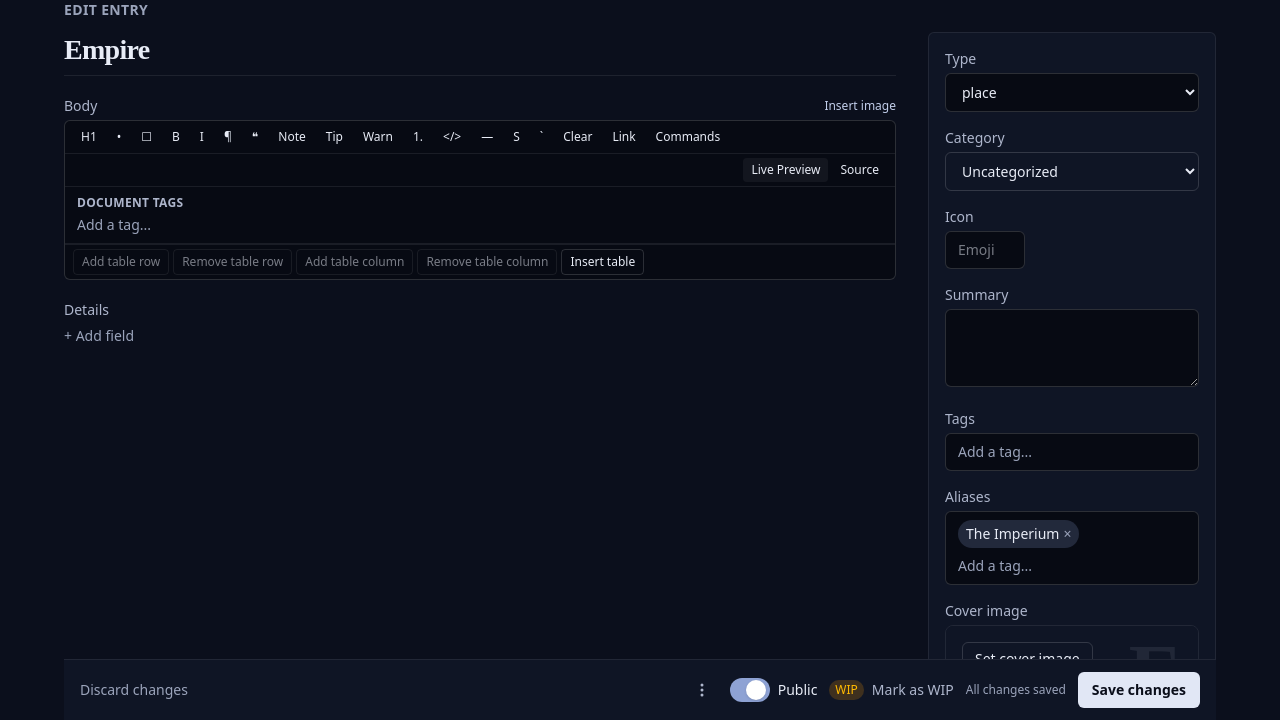
EntryEditor rename-propagation two-phase save › D-09: clicking Cancel in the ConfirmDialog makes no PATCH commit
Check: the button "Save changes" is shown, box [1078,672,1200,708]
Replace the text in the field named "title" with "Imperium" at (480, 54), box [64,32,896,76]
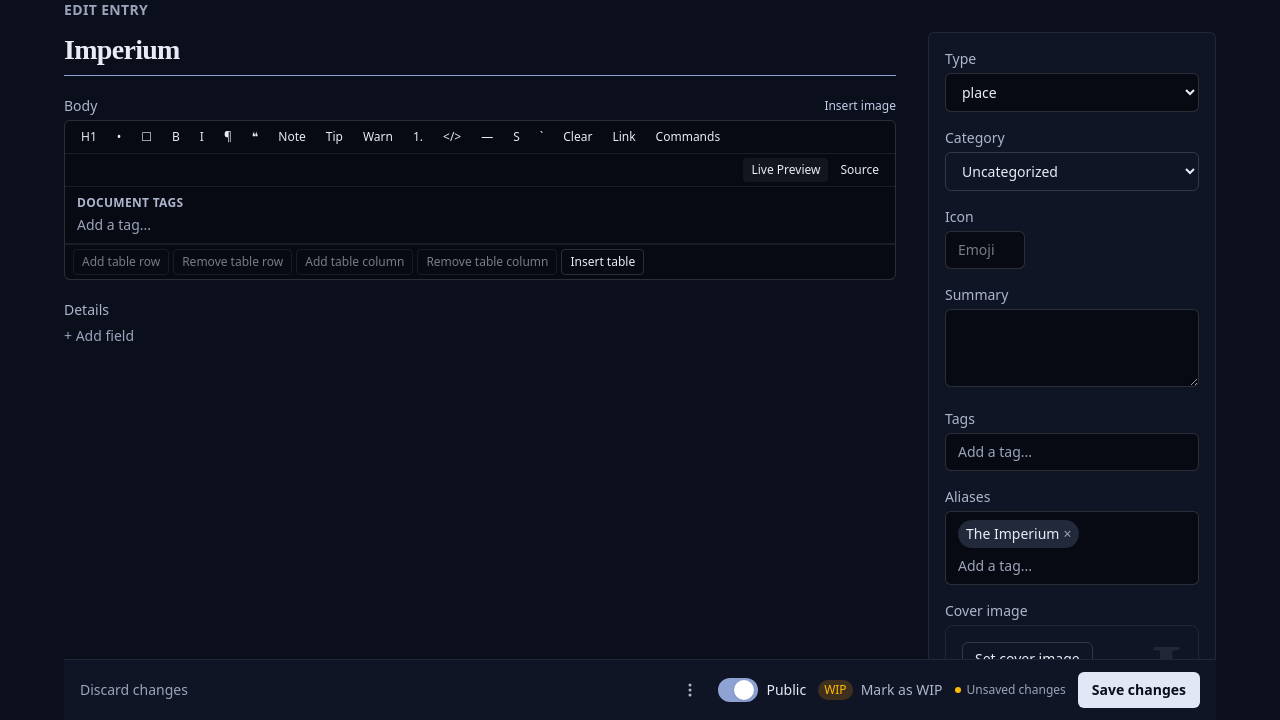
Click the button "Save changes".
click(1139, 690)  # box [1078,672,1200,708]
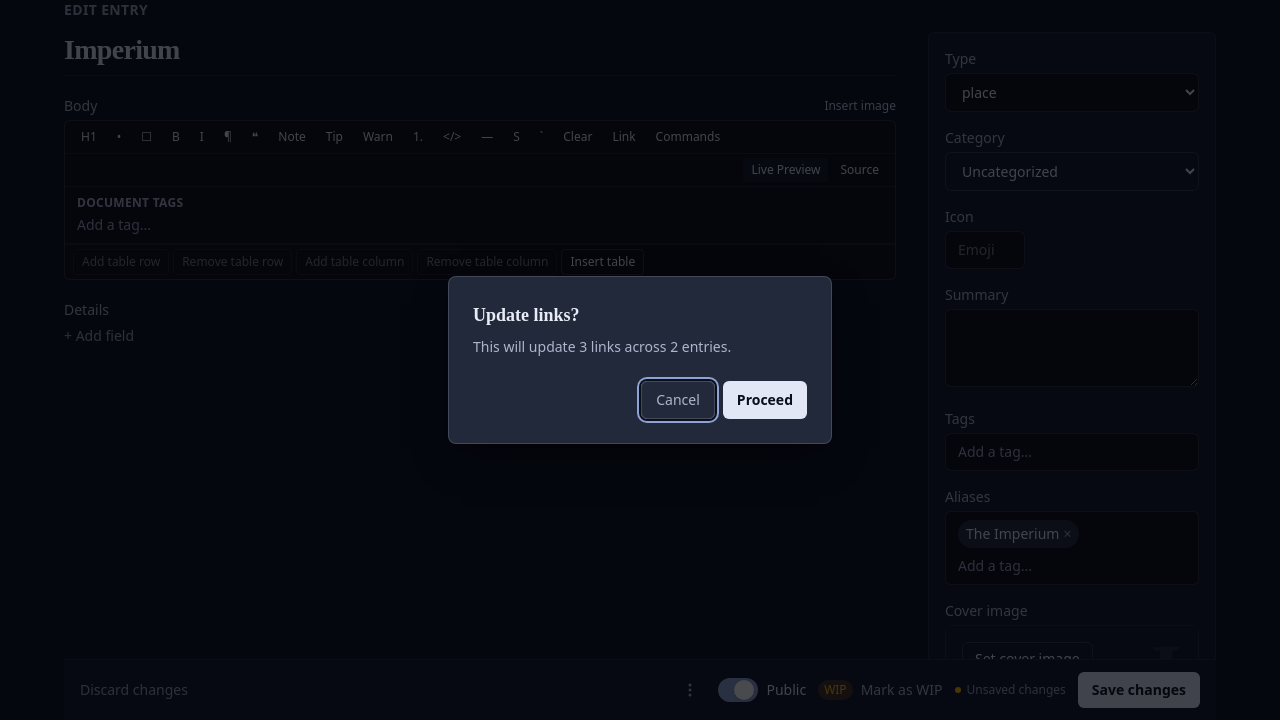
Check: the dialog is shown, box [448,276,832,444]
// Click Cancel
Click the button "Cancel".
click(678, 400)  # box [641,381,715,419]
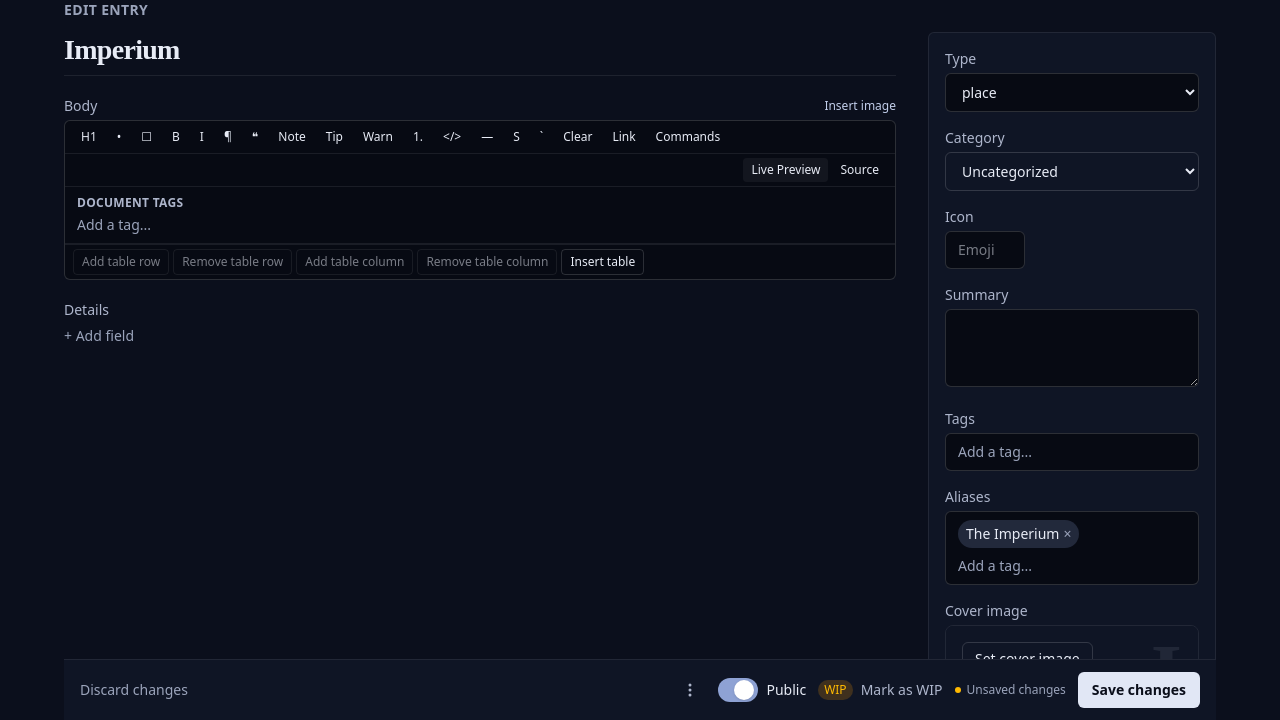
Check: the dialog is gone
